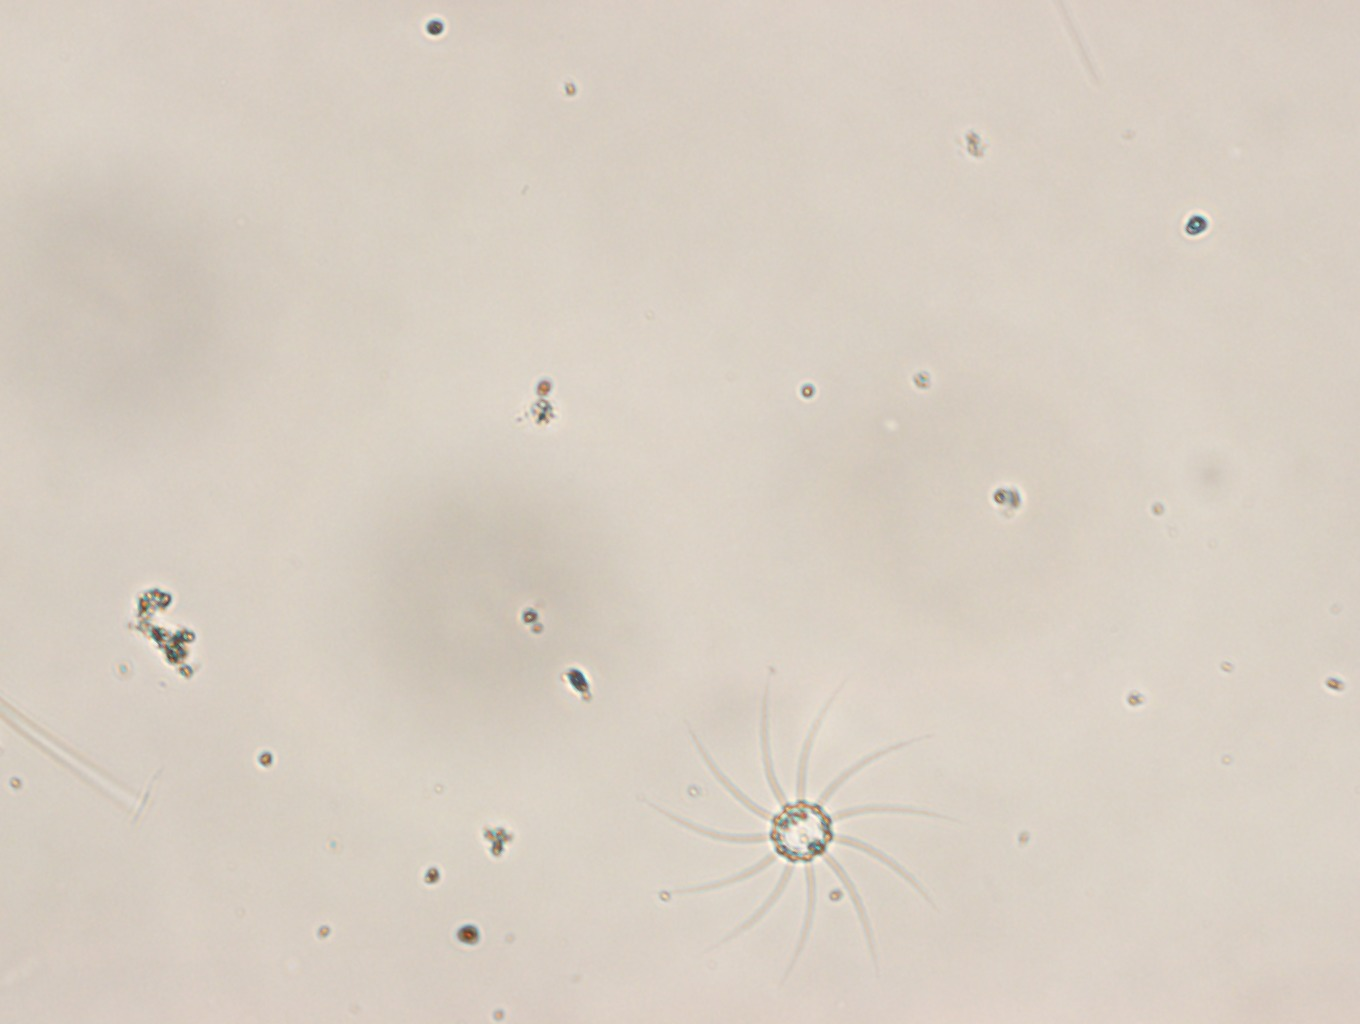bacteriastrum: (646, 673, 959, 977)
